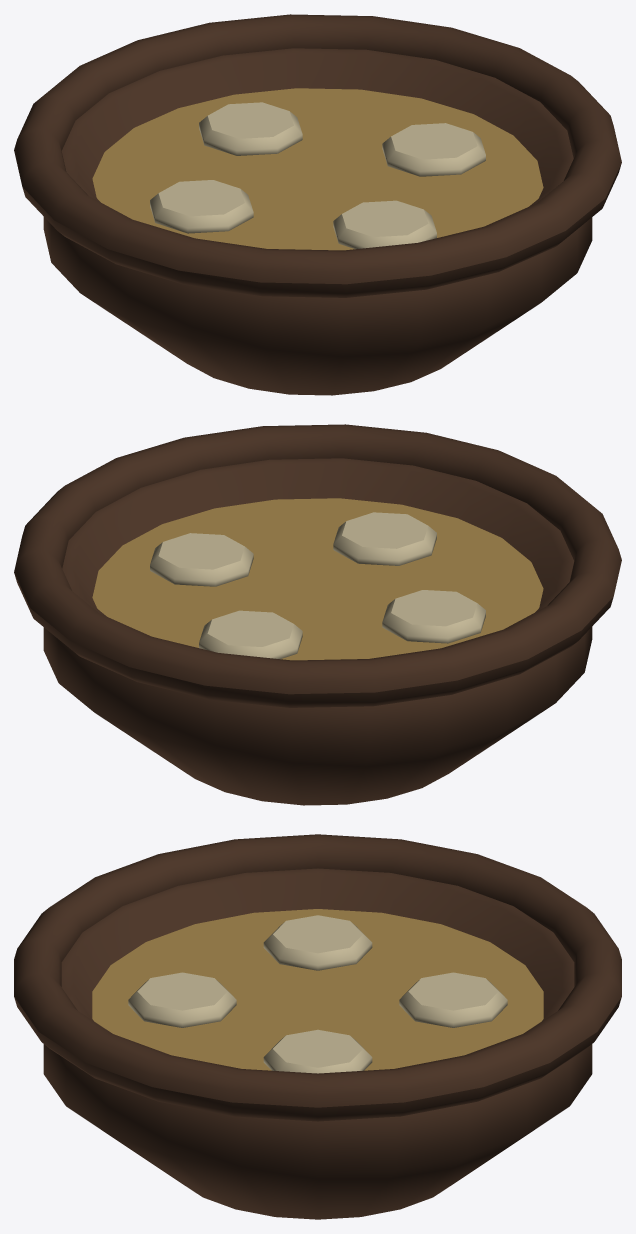
Rendered from moonfish_moqueca.obj.
The picture shows the model from 3 angles, top to bottom: view 1: azimuth 30°, elevation 25°; view 2: azimuth 150°, elevation 25°; view 3: azimuth 270°, elevation 25°; orthographic projection.
Visible parts, largest first — view 1: moonfish_moqueca; view 2: moonfish_moqueca; view 3: moonfish_moqueca.
Part boxes in pixels (x1,y1,x2,y2): moonfish_moqueca: [14, 14, 621, 395]; moonfish_moqueca: [14, 424, 621, 805]; moonfish_moqueca: [14, 834, 621, 1219].
Size of the model in its own units: 2.04 by 0.73 by 2.02.
